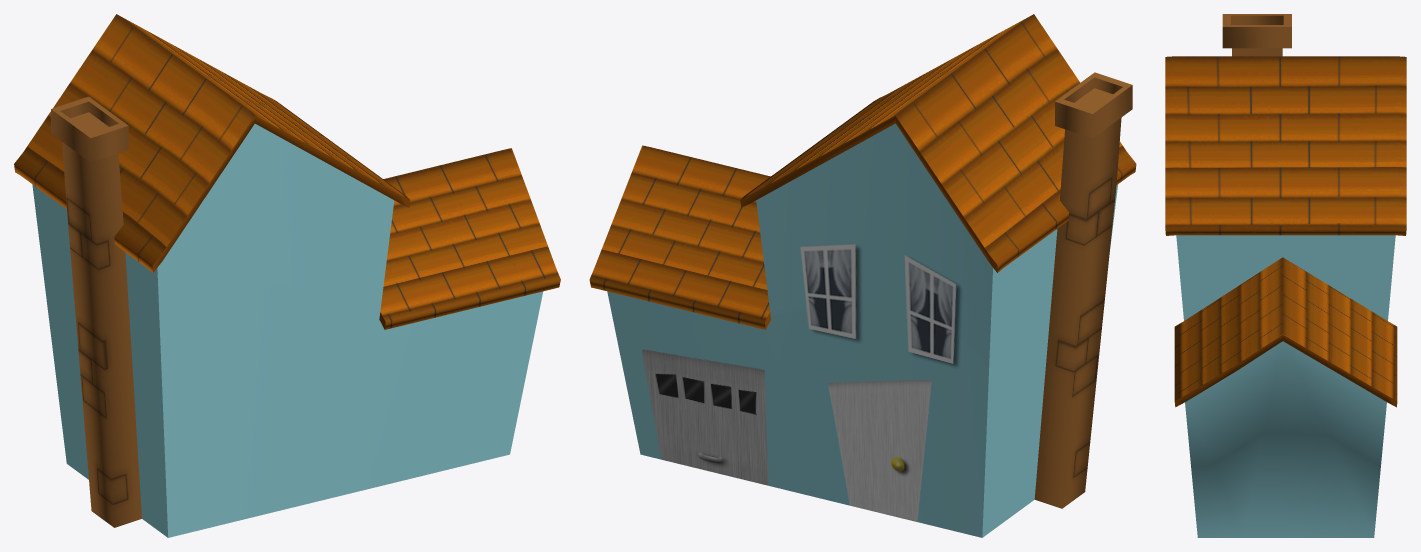
File: House.FBX
The picture shows the model from 3 angles, left to right: view 1: azimuth 30°, elevation 25°; view 2: azimuth 150°, elevation 25°; view 3: azimuth 270°, elevation 25°; orthographic projection. The views are drawn at different scales.
Visible parts, largest first — view 1: House; view 2: House; view 3: House.
Part boxes in pixels (left/top/right/bottom): House: left=14, top=14, right=560, bottom=537; House: left=589, top=14, right=1136, bottom=537; House: left=1165, top=14, right=1406, bottom=537.
Bounding box in the file's own units: 179 × 158 × 94.26.
